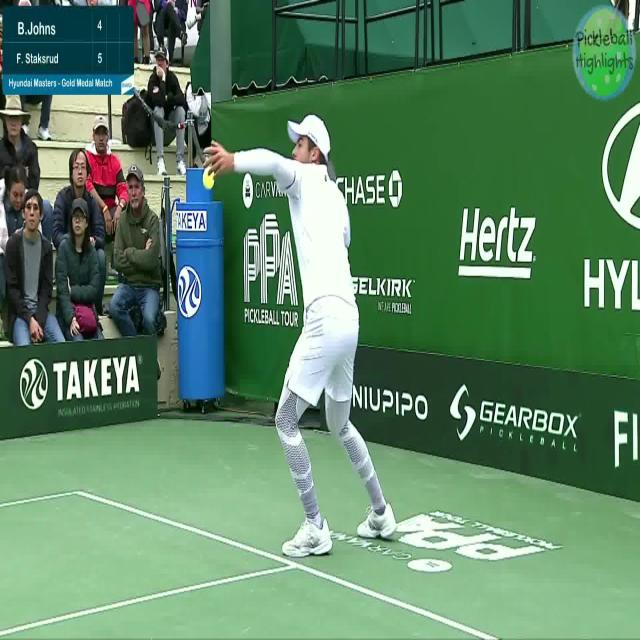ball: (197, 162, 217, 192)
